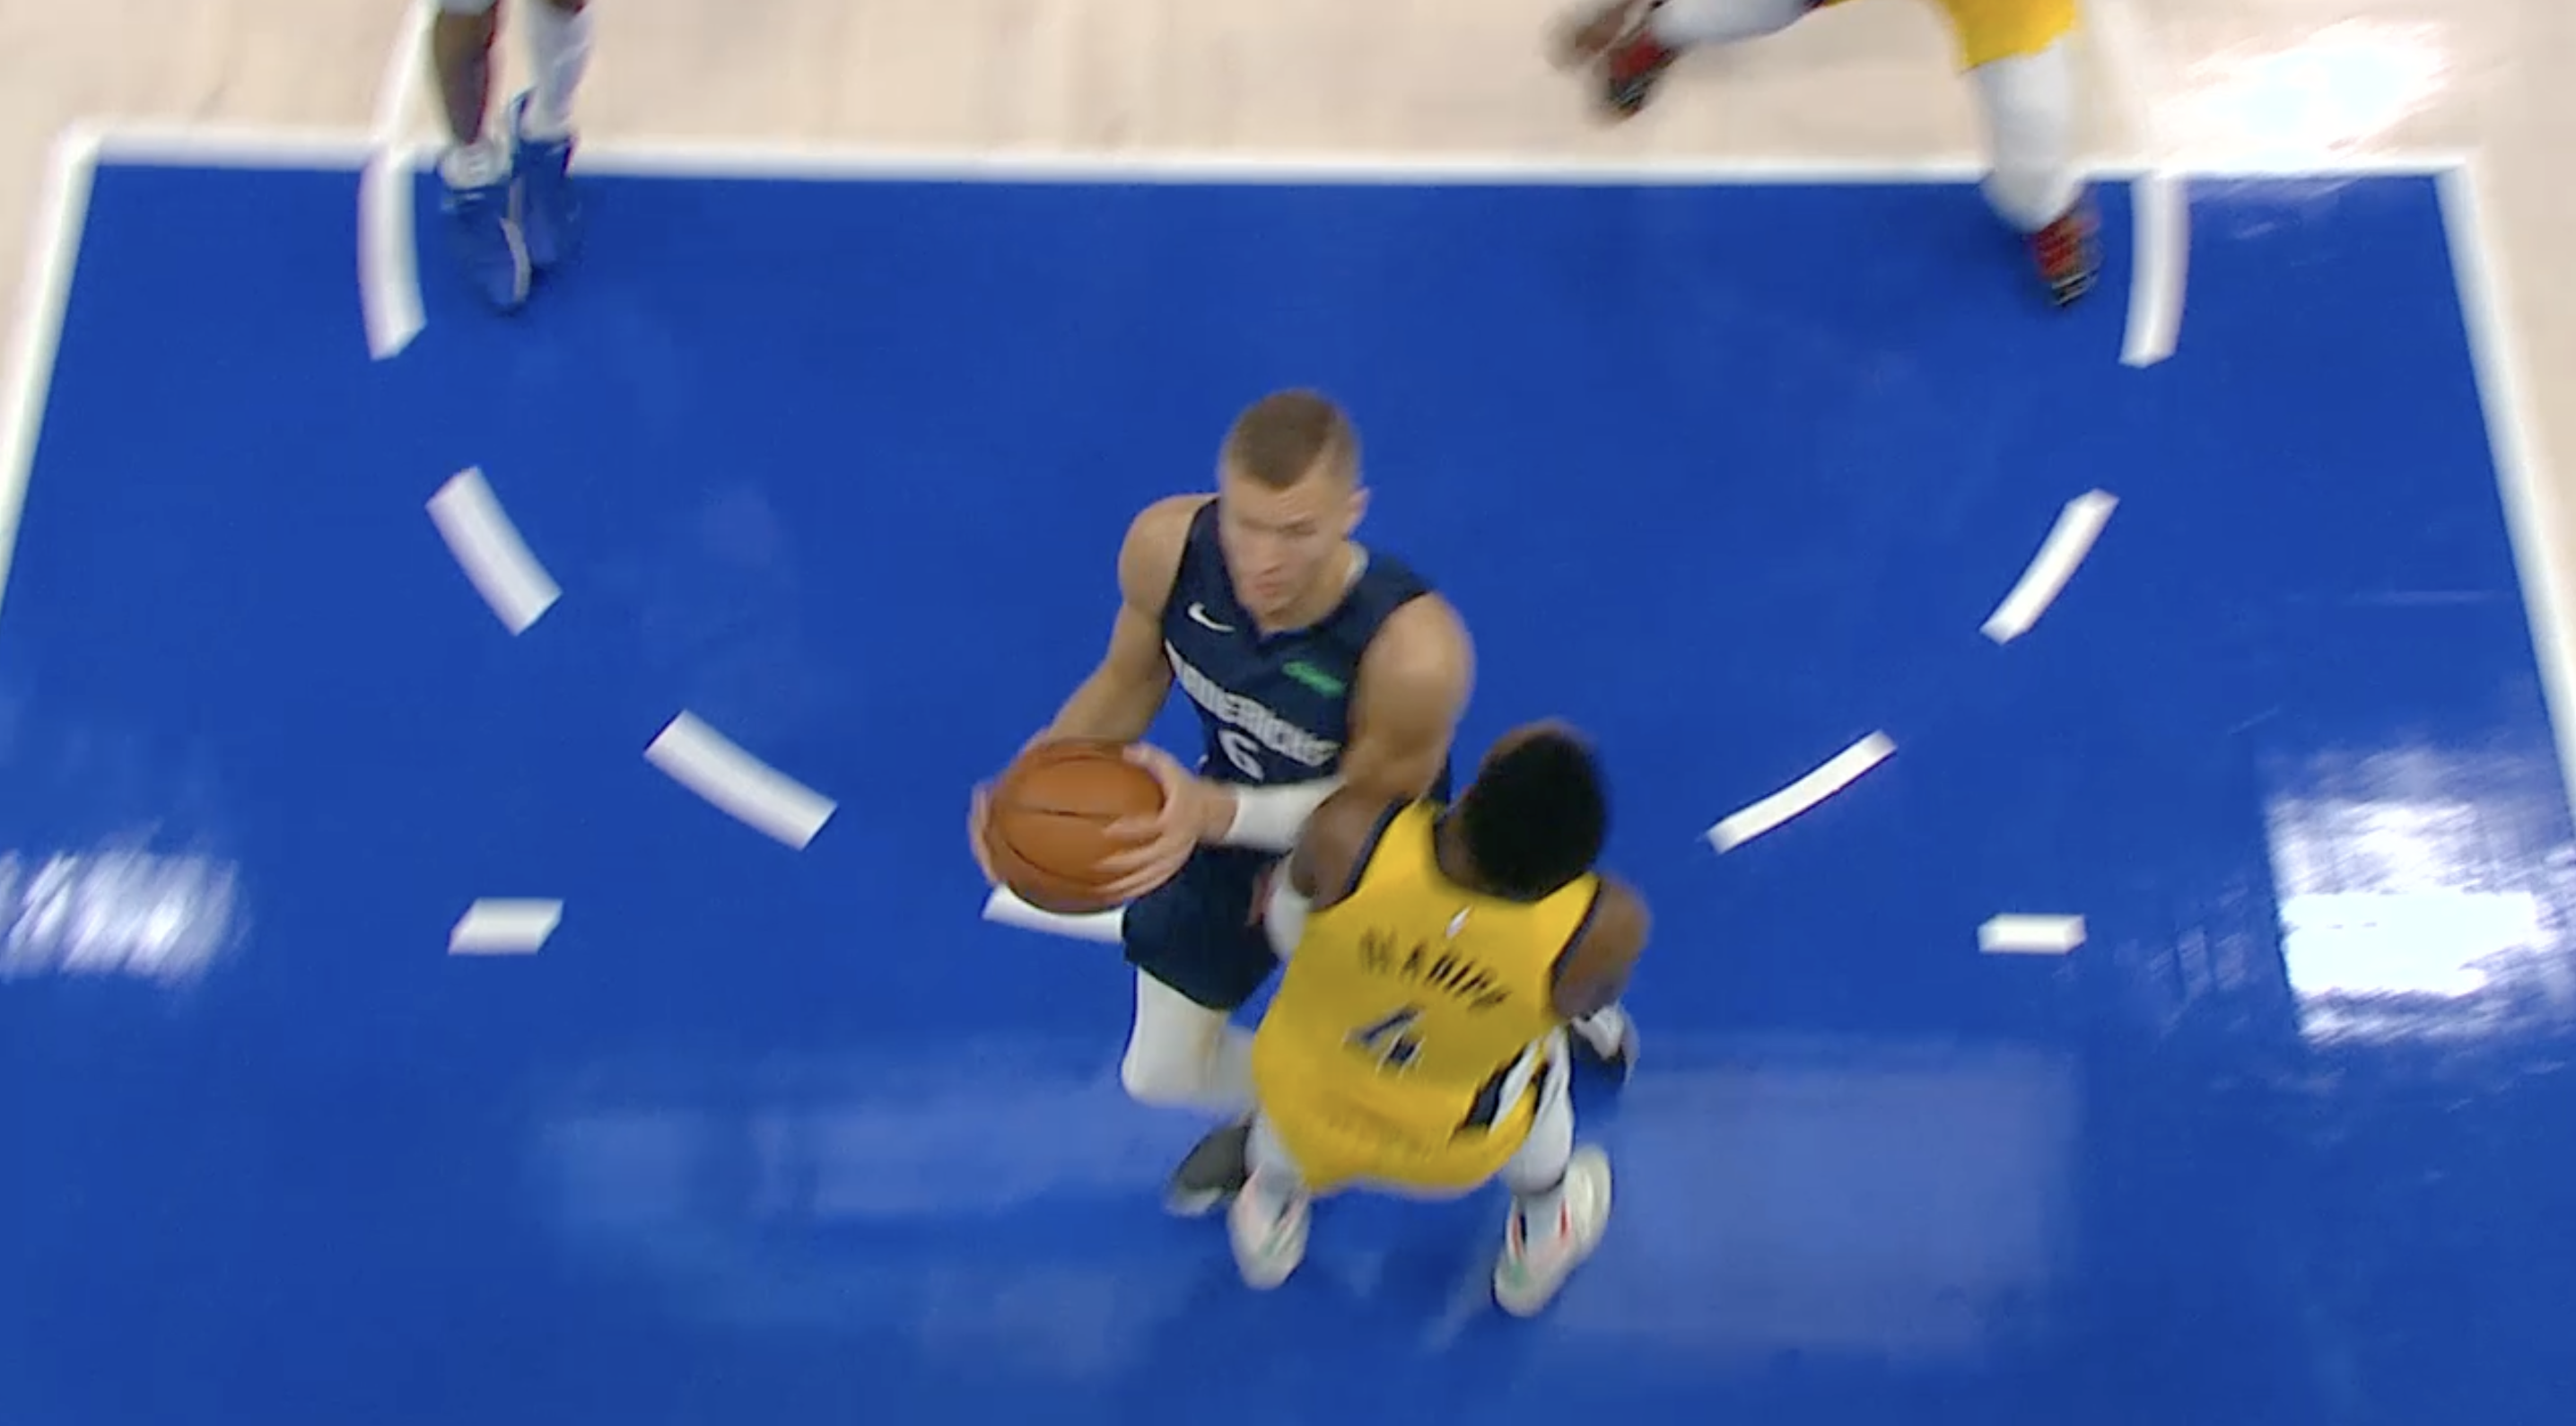Foul: (930, 332, 1702, 1319)
